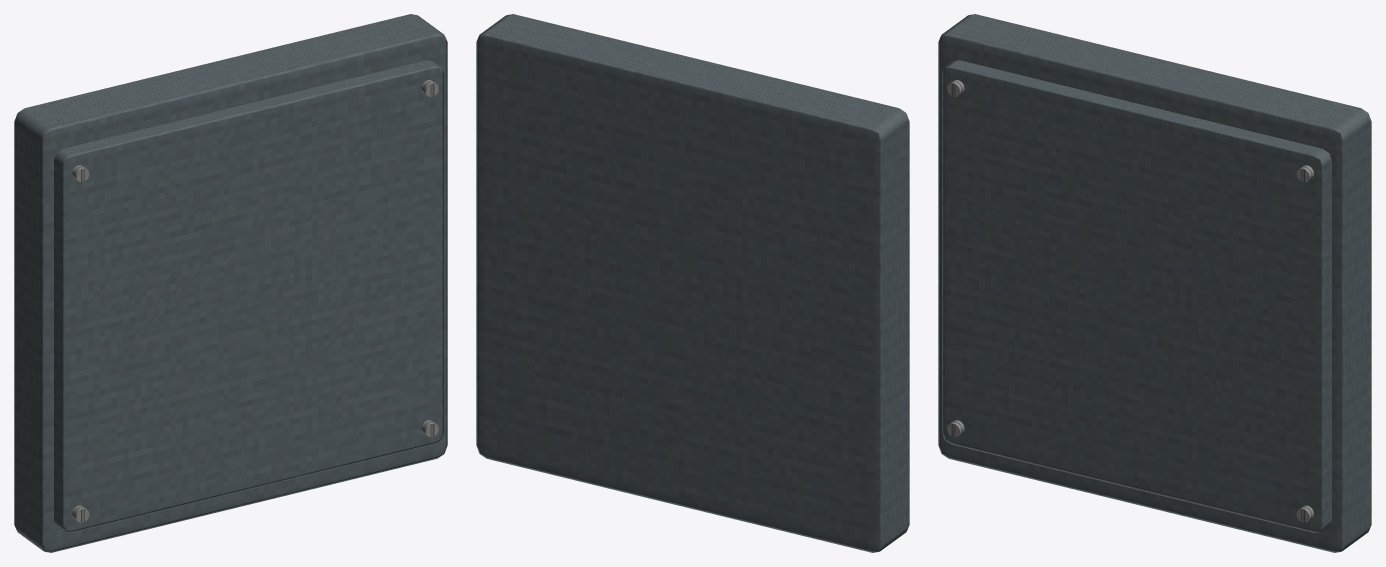
Rendered from gusset.glb.
3 views of the same model, side by side, from view 1: azimuth 30°, elevation 25°; view 2: azimuth 150°, elevation 25°; view 3: azimuth 330°, elevation 25° (orthographic).
Parts seen in each view (by area): view 1: face, back; view 2: back; view 3: face, back.
Part boxes in pixels (x1=…): face: x1=54, y1=60, x2=443, y2=532; back: x1=14, y1=14, x2=447, y2=552; back: x1=476, y1=14, x2=909, y2=552; face: x1=942, y1=60, x2=1331, y2=532; back: x1=938, y1=14, x2=1371, y2=552.
Bounding box in the file's own units: 0.3 × 0.3 × 0.052.
Materials: 2 (2 with a texture image).
